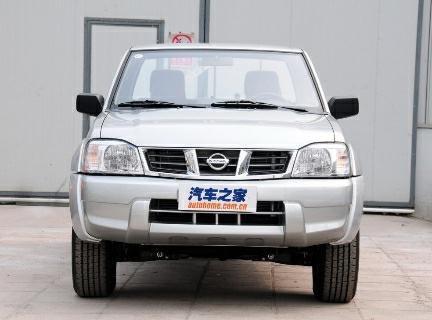日产-D22: (60, 37, 367, 310)
